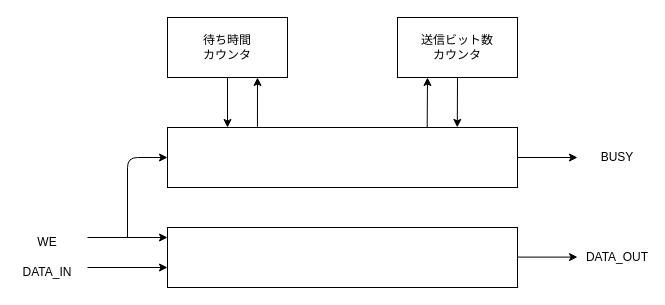
Some shapes in this 665 by 305 pixel diagram are drawn without their labels. Here are the shapes that lost their labels. From the top down, the box of each, then its label:
(166, 126, 518, 188): ステートマシンによる制御
(166, 226, 518, 288): シフトレジスタ（10bit）
